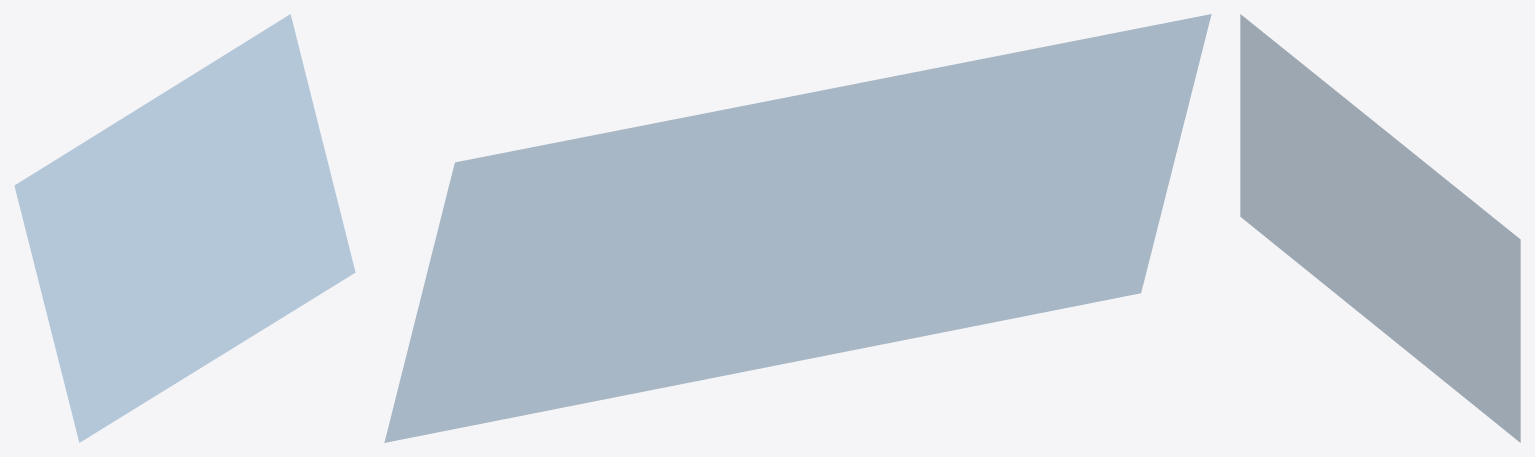
3 renders of one model, left to right at view 1: azimuth 30°, elevation 25°; view 2: azimuth 150°, elevation 25°; view 3: azimuth 270°, elevation 25°, orthographic. The views are drawn at different scales.
Size of the model in its own units: 4.84 by 3.15 by 3.2.
